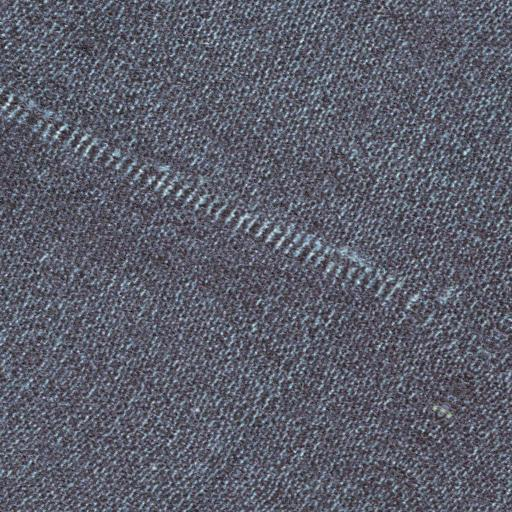slub: (3, 84, 415, 317)
